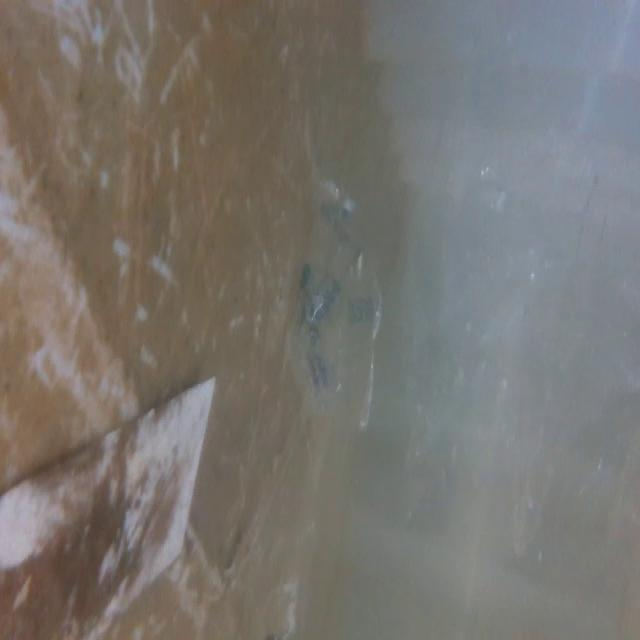metal: (0, 369, 222, 634)
plastic bags: (409, 9, 614, 612), (276, 170, 398, 439)
